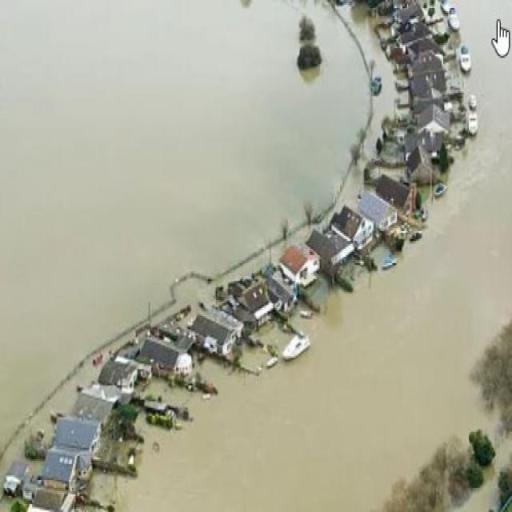flood: (118, 0, 512, 512), (0, 0, 370, 445), (151, 225, 311, 325), (0, 364, 98, 484), (338, 4, 396, 159), (333, 163, 363, 214), (102, 333, 134, 362)
house: (42, 416, 100, 490), (193, 305, 243, 362), (140, 334, 194, 380), (278, 242, 324, 290), (231, 278, 277, 326), (73, 384, 123, 426), (332, 205, 376, 250), (359, 188, 398, 234), (377, 171, 419, 212), (412, 106, 450, 151), (407, 146, 434, 185), (410, 70, 440, 102)
